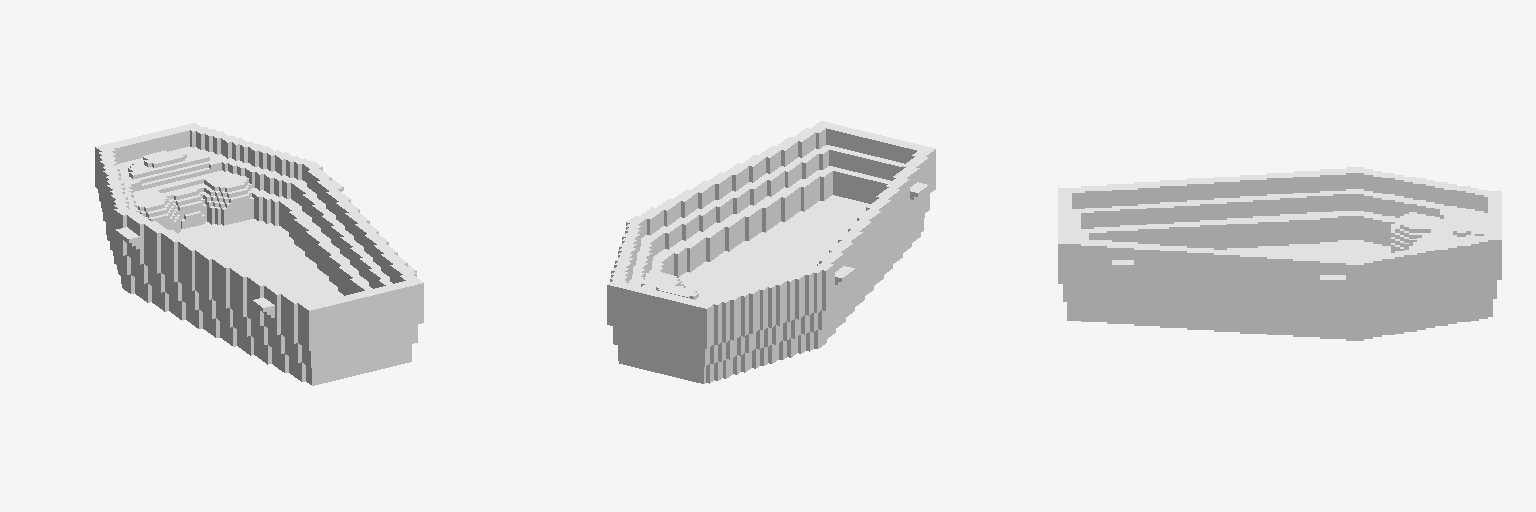
File: coffin.obj
3 renders of one model, left to right at view 1: azimuth 30°, elevation 25°; view 2: azimuth 150°, elevation 25°; view 3: azimuth 270°, elevation 25°, orthographic.
Bounding box in the file's own units: 56 × 20 × 100.